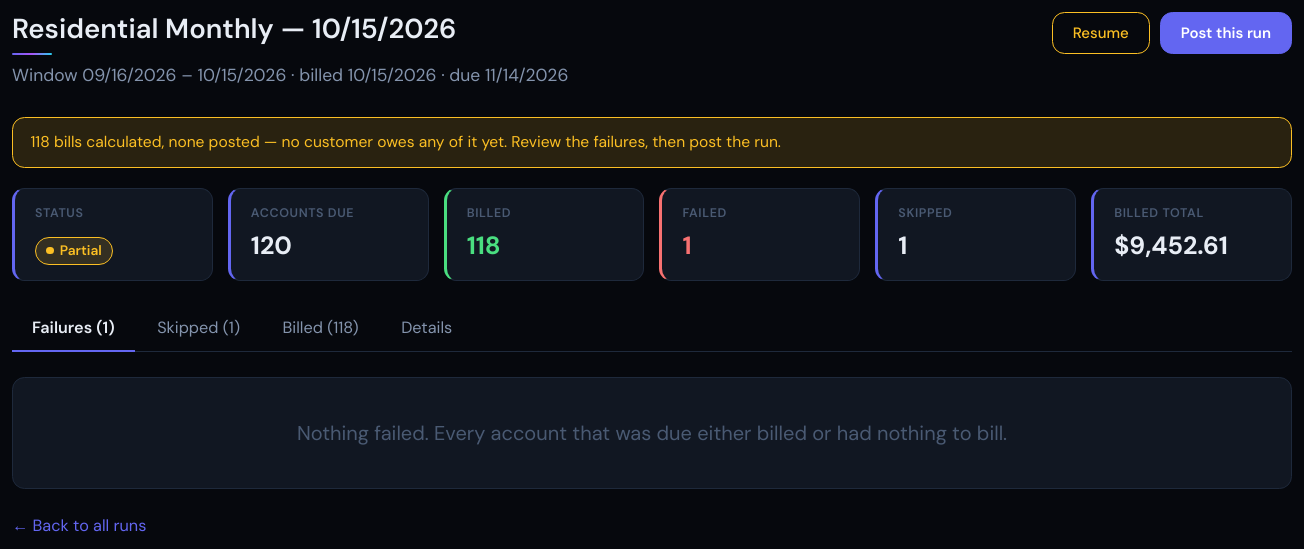
it: Billing run detail — exceptions › shows each billed account's own service period, read to read
Click the button "Billed (118)" at {"x": 321, "y": 329}, box left=262, top=306, right=379, bottom=352
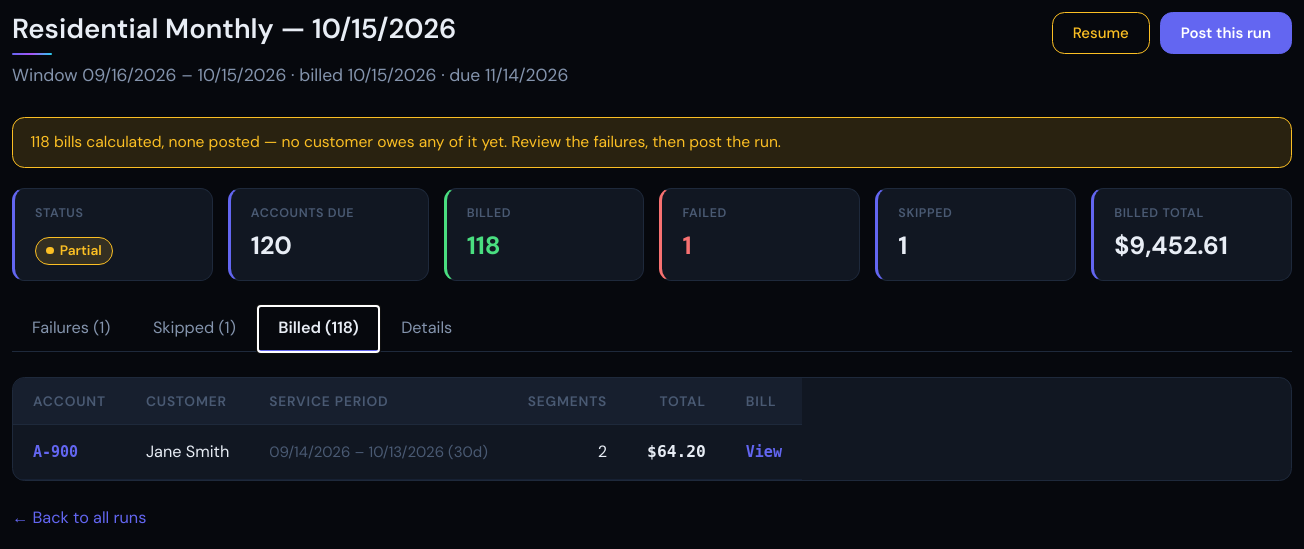
Expected: the text "09/14/2026 – 10/13/2026 (30d)" is shown, left=249, top=424, right=508, bottom=480
Expected: the text "$64.20" is shown, left=647, top=442, right=706, bottom=461
